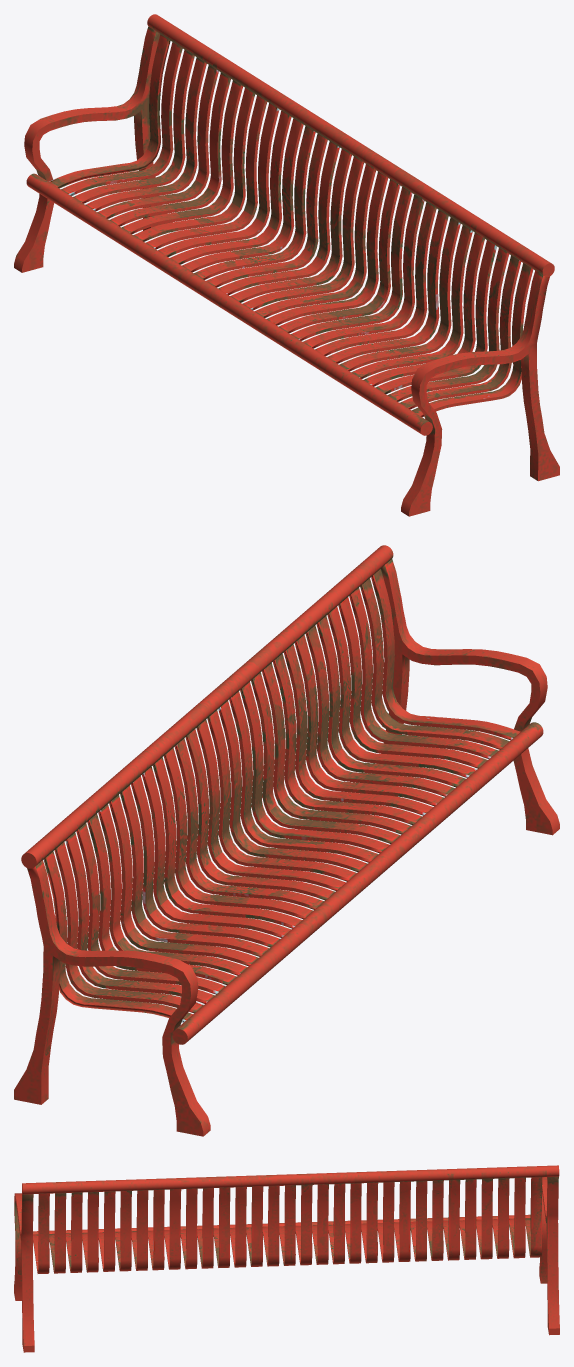
Rendered from bench.glb.
3 views of the same model, one above another, from view 1: azimuth 30°, elevation 25°; view 2: azimuth 150°, elevation 25°; view 3: azimuth 270°, elevation 25° (orthographic). The views are drawn at different scales.
Parts seen in each view (by area): view 1: ParkBenchLong_ParkBenchLong_shader_0; view 2: ParkBenchLong_ParkBenchLong_shader_0; view 3: ParkBenchLong_ParkBenchLong_shader_0.
Boxes of the visible parts, <box> form: ParkBenchLong_ParkBenchLong_shader_0: <box>14,14,559,516</box>; ParkBenchLong_ParkBenchLong_shader_0: <box>14,545,559,1136</box>; ParkBenchLong_ParkBenchLong_shader_0: <box>14,1165,559,1352</box>.
Size of the model in its own units: 1.04 by 1.08 by 3.22.
Materials: 1 (1 with a texture image).
